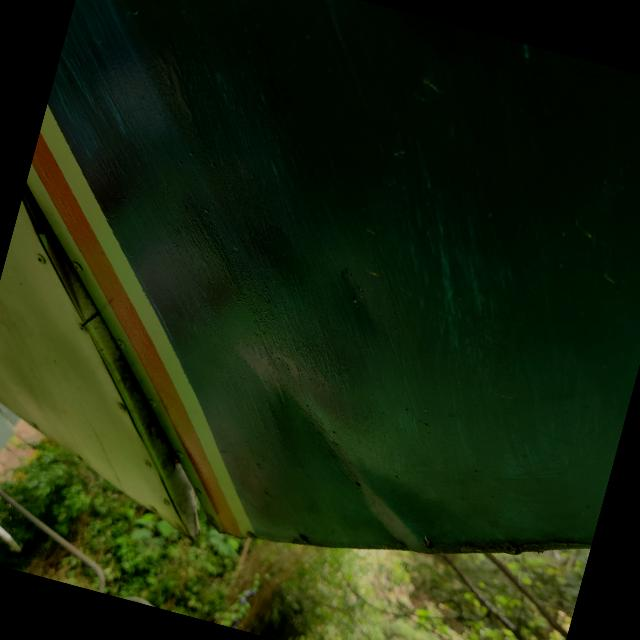dent: (184, 330, 502, 591), (289, 225, 428, 367)
